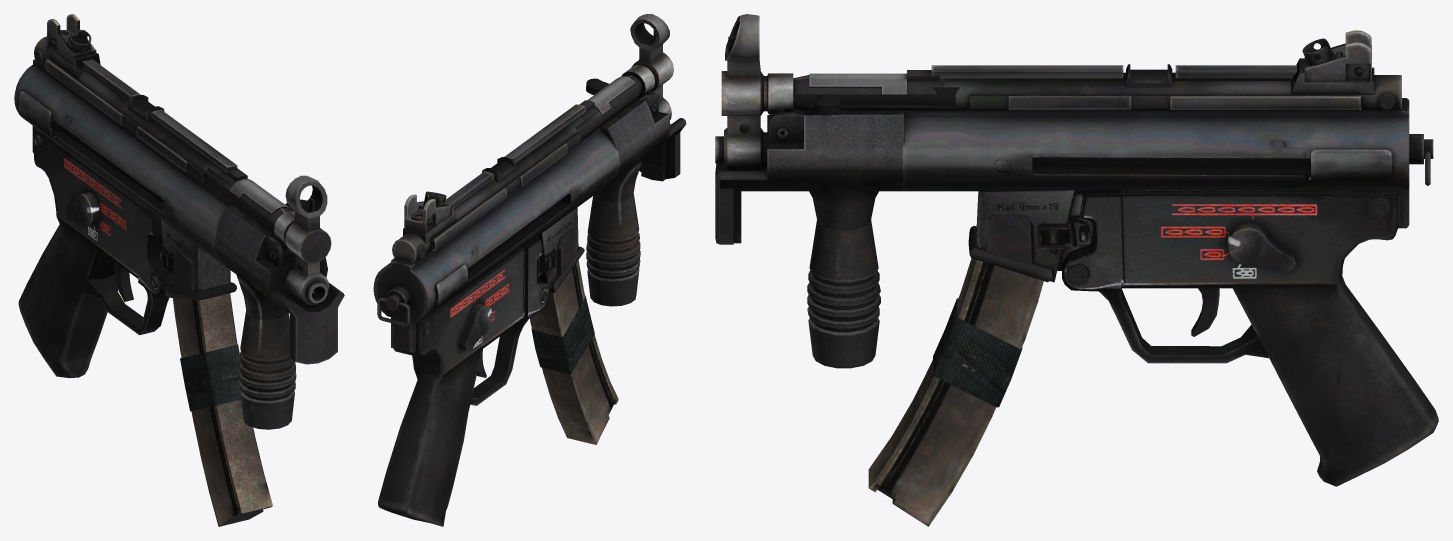
The model's file is gun.fbx.
The picture shows the model from 3 angles, left to right: view 1: azimuth 30°, elevation 25°; view 2: azimuth 150°, elevation 25°; view 3: azimuth 270°, elevation 25°; orthographic projection. The views are drawn at different scales.
Parts seen in each view (by area): view 1: Body, Ammo, Tape, Trigger; view 2: Body, Ammo, Tape; view 3: Body, Ammo, Tape, Bolt, Trigger.
Boxes of the visible parts, bbox=[...] form: Body: bbox=[14, 14, 344, 429]; Ammo: bbox=[172, 293, 272, 526]; Tape: bbox=[180, 344, 240, 411]; Trigger: bbox=[114, 262, 133, 301]; Body: bbox=[373, 14, 686, 526]; Ammo: bbox=[529, 260, 618, 444]; Tape: bbox=[531, 295, 594, 374]; Body: bbox=[715, 14, 1438, 486]; Ammo: bbox=[868, 258, 1043, 526]; Tape: bbox=[933, 298, 1022, 407]; Bolt: bbox=[798, 87, 959, 115]; Trigger: bbox=[1191, 288, 1219, 336].
Bounding box in the file's own units: 11.12 × 63.41 × 82.91.
Materials: 3 (2 with a texture image).
